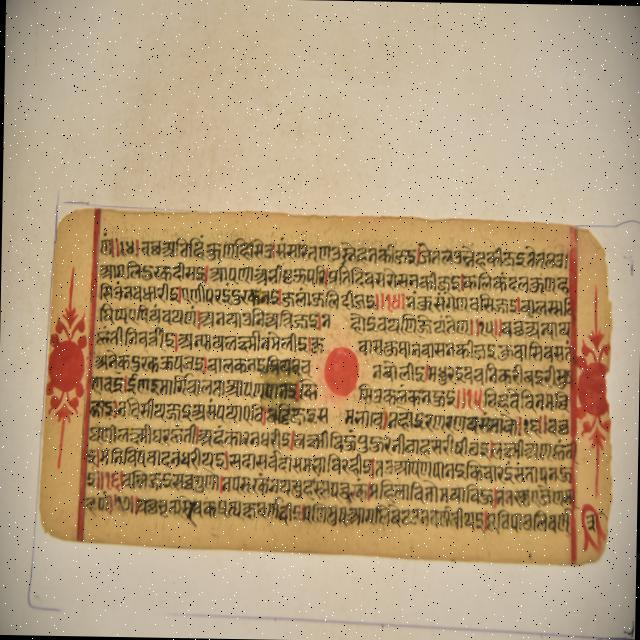text_paragraph: (34, 204, 611, 571)
